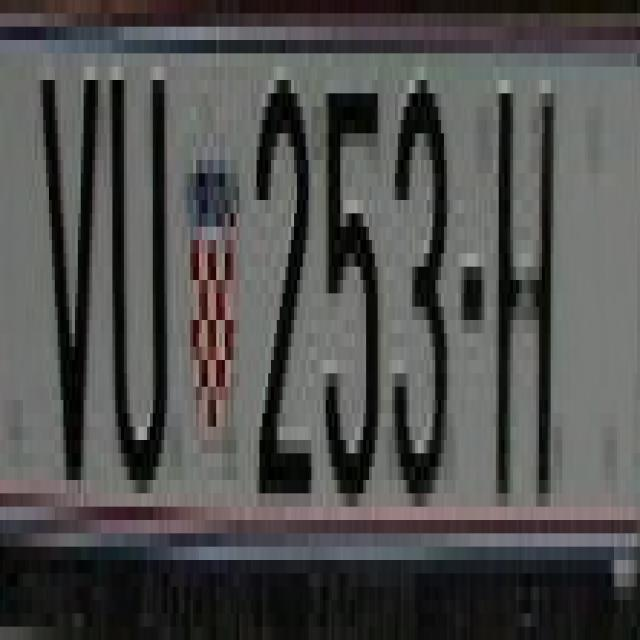2: (260, 80, 308, 480)
3: (392, 80, 450, 480)
5: (320, 53, 383, 467)
H: (487, 80, 562, 493)
U: (101, 66, 173, 466)
V: (38, 53, 95, 467)
